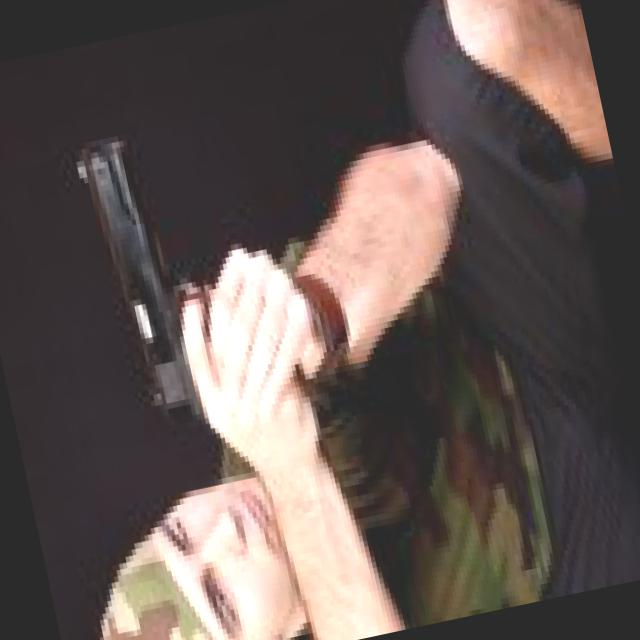handgun: (53, 86, 332, 458)
